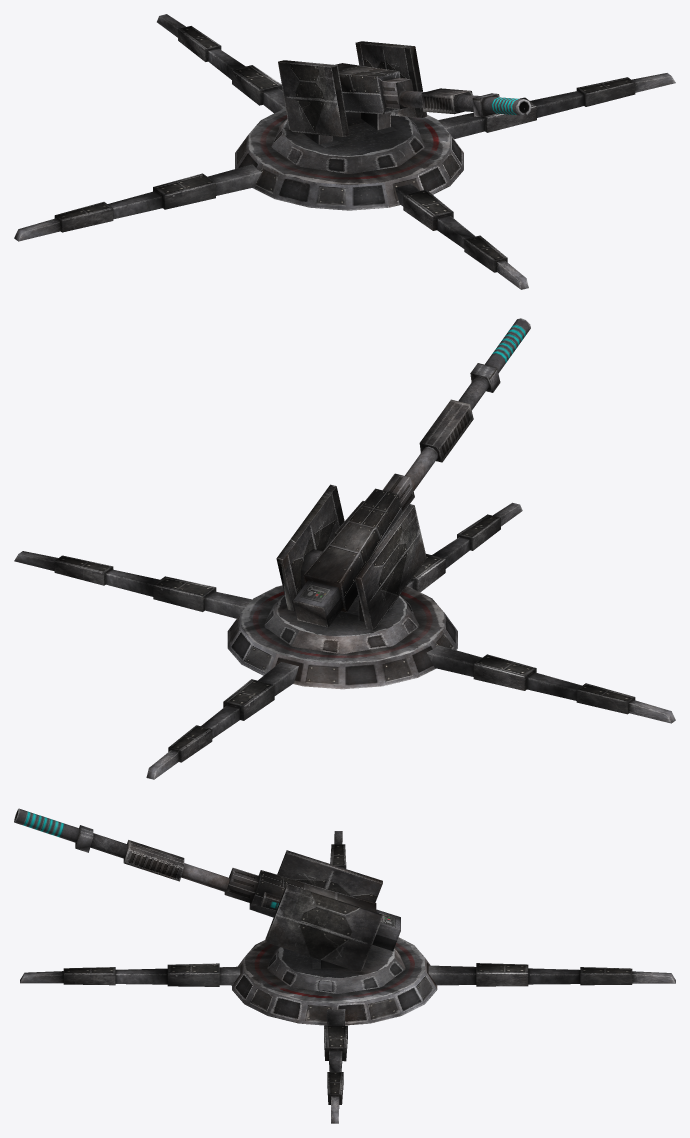
Rendered from Artillery-lod1.obj.
3 renders of one model, top to bottom at view 1: azimuth 30°, elevation 25°; view 2: azimuth 150°, elevation 25°; view 3: azimuth 270°, elevation 25°, orthographic. The views are drawn at different scales.
Visible parts, largest first — view 1: Artillery-lod1.obj; view 2: Artillery-lod1.obj; view 3: Artillery-lod1.obj.
Boxes of the visible parts, bbox=[...] form: Artillery-lod1.obj: bbox=[14, 14, 675, 289]; Artillery-lod1.obj: bbox=[14, 318, 675, 779]; Artillery-lod1.obj: bbox=[14, 808, 675, 1123].
Bounding box in the file's own units: 7.05 × 1.97 × 6.87.
1 material, 1 textured.
